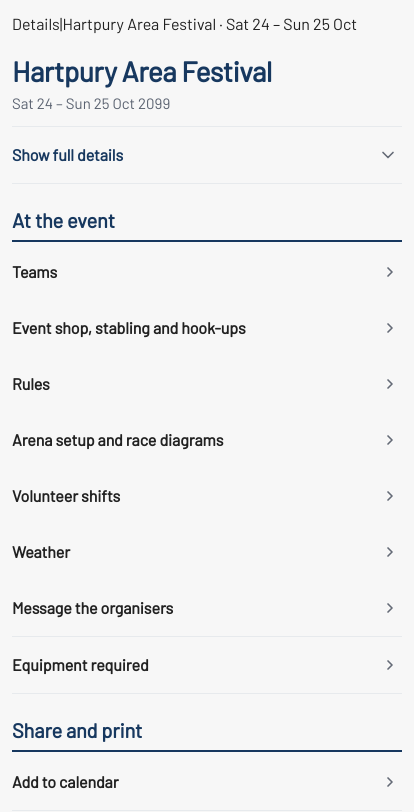
Test: DetailsTab › still offers Show full details when the organiser has set none of the details, and says so inside
Click the button "Show full details" at (68, 154), box [12,127,402,183]
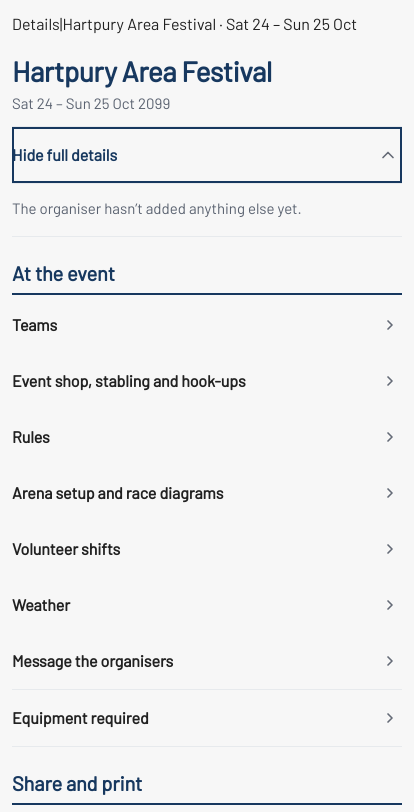
Expected: the text "The organiser hasn’t added anything else yet." is shown, [12,199,302,217]
